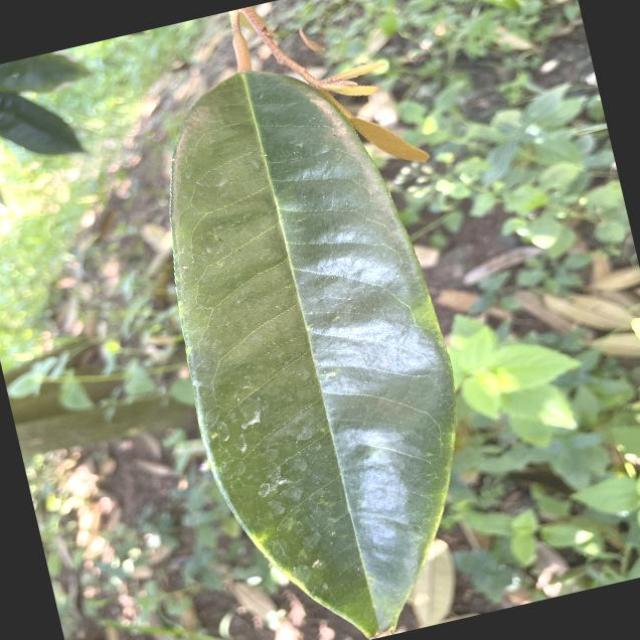No Disease: (104, 25, 516, 640)
